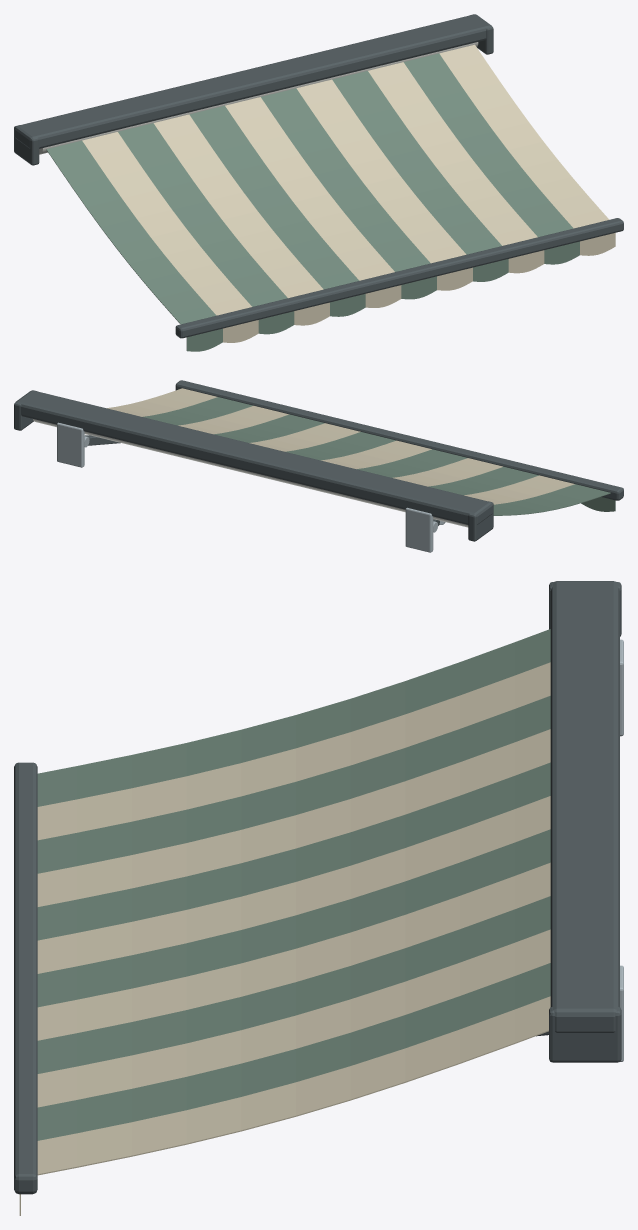
File: city-retractable-awning.glb
3 views of the same model, one above another, from view 1: azimuth 30°, elevation 25°; view 2: azimuth 150°, elevation 25°; view 3: azimuth 270°, elevation 25° (orthographic). The views are drawn at different scales.
Visible parts, largest first — view 1: Wall cassette top, Woven canopy stripe 00, Woven canopy stripe 02, Woven canopy stripe 03, Woven canopy stripe 11, Woven canopy stripe 01, Woven canopy stripe 04, Woven canopy stripe 05, Woven canopy stripe 06, Woven canopy stripe 07, Woven canopy stripe 08, Woven canopy stripe 09 (+16 smaller); view 2: Wall cassette top, Front tension bar, Woven canopy stripe 00, Woven canopy stripe 10, Woven canopy stripe 01, Woven canopy stripe 03, Woven canopy stripe 05, Woven canopy stripe 04, Woven canopy stripe 07, Woven canopy stripe 11, Woven canopy stripe 06, Woven canopy stripe 08 (+8 smaller); view 3: Wall cassette top, Woven canopy stripe 11, Woven canopy stripe 08, Woven canopy stripe 05, Woven canopy stripe 07, Woven canopy stripe 02, Woven canopy stripe 04, Woven canopy stripe 09, Woven canopy stripe 10, Woven canopy stripe 03, Woven canopy stripe 00, Woven canopy stripe 01 (+3 smaller).
Boxes of the visible parts, left/top/right/bottom form: Wall cassette top: left=14, top=14, right=491, bottom=148; Woven canopy stripe 00: left=46, top=140, right=216, bottom=324; Woven canopy stripe 02: left=118, top=123, right=287, bottom=306; Woven canopy stripe 03: left=153, top=114, right=323, bottom=298; Woven canopy stripe 11: left=439, top=44, right=609, bottom=228; Woven canopy stripe 01: left=82, top=132, right=251, bottom=315; Woven canopy stripe 04: left=189, top=105, right=359, bottom=289; Woven canopy stripe 05: left=225, top=97, right=394, bottom=280; Woven canopy stripe 06: left=261, top=88, right=430, bottom=271; Woven canopy stripe 07: left=296, top=79, right=466, bottom=263; Woven canopy stripe 08: left=332, top=71, right=501, bottom=254; Woven canopy stripe 09: left=368, top=62, right=537, bottom=245; Wall cassette top: left=15, top=390, right=492, bottom=524; Front tension bar: left=175, top=380, right=623, bottom=500; Woven canopy stripe 00: left=493, top=484, right=610, bottom=515; Woven canopy stripe 10: left=143, top=397, right=252, bottom=425; Woven canopy stripe 01: left=464, top=475, right=574, bottom=504; Woven canopy stripe 03: left=393, top=458, right=502, bottom=486; Woven canopy stripe 05: left=321, top=440, right=431, bottom=469; Woven canopy stripe 04: left=357, top=449, right=467, bottom=477; Woven canopy stripe 07: left=249, top=423, right=360, bottom=451; Woven canopy stripe 11: left=107, top=388, right=217, bottom=416; Woven canopy stripe 06: left=285, top=432, right=395, bottom=460; Woven canopy stripe 08: left=214, top=414, right=324, bottom=442; Wall cassette top: left=550, top=581, right=619, bottom=1032; Woven canopy stripe 11: left=37, top=996, right=550, bottom=1175; Woven canopy stripe 08: left=37, top=896, right=550, bottom=1073; Woven canopy stripe 05: left=37, top=796, right=550, bottom=973; Woven canopy stripe 07: left=37, top=862, right=550, bottom=1040; Woven canopy stripe 02: left=37, top=696, right=550, bottom=873; Woven canopy stripe 04: left=37, top=762, right=550, bottom=940; Woven canopy stripe 09: left=37, top=929, right=550, bottom=1107; Woven canopy stripe 10: left=37, top=963, right=550, bottom=1140; Woven canopy stripe 03: left=37, top=729, right=550, bottom=906; Woven canopy stripe 00: left=37, top=629, right=550, bottom=806; Woven canopy stripe 01: left=37, top=662, right=550, bottom=840.
Size of the model in its own units: 3.24 by 0.796 by 1.93.
